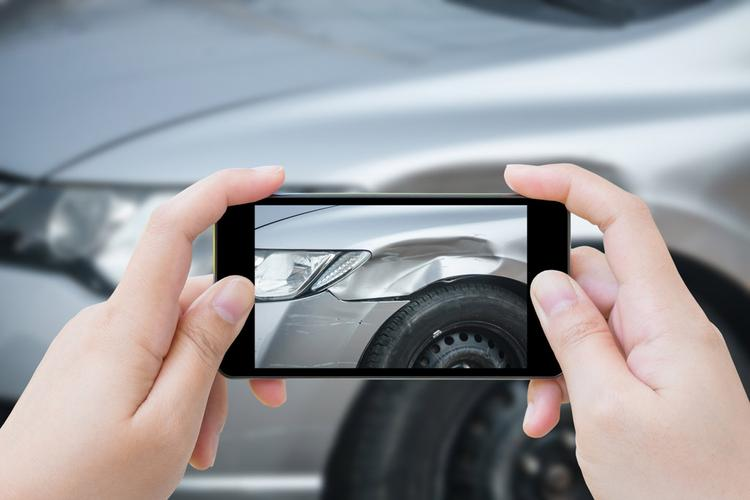taking photos: (2, 146, 750, 497)
